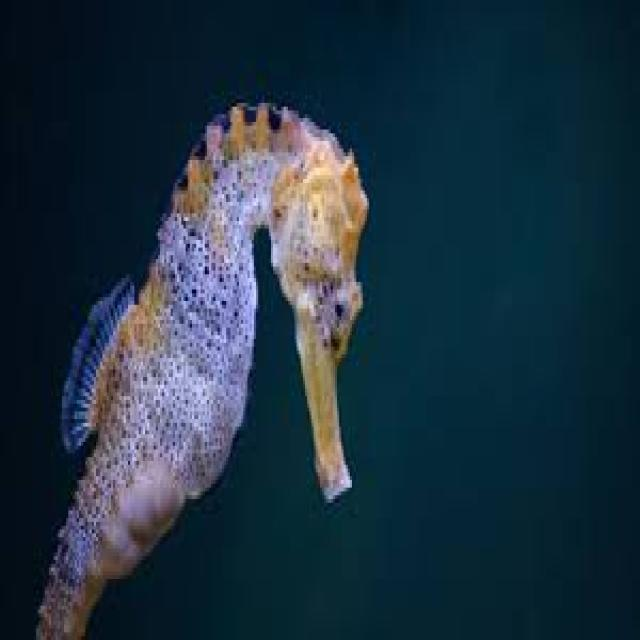seahorse: (36, 103, 367, 636)
